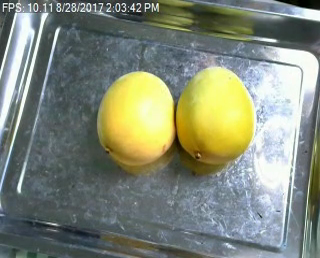Mango: (170, 65, 258, 171), (99, 69, 177, 163)
